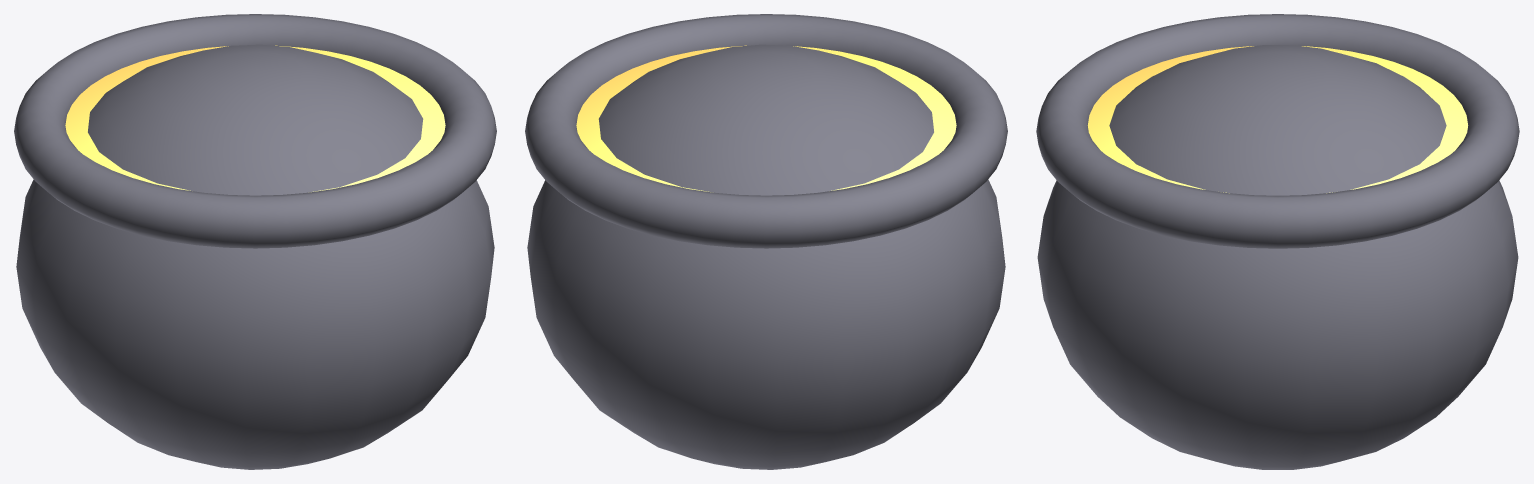
File: prop-soup-pot.glb
3 views of the same model, side by side, from view 1: azimuth 30°, elevation 25°; view 2: azimuth 150°, elevation 25°; view 3: azimuth 270°, elevation 25° (orthographic).
Parts seen in each view (by area): view 1: Sphere, Torus, Cylinder; view 2: Sphere, Torus, Cylinder; view 3: Sphere, Torus, Cylinder.
Part boxes in pixels (bbox=[...]): Sphere: bbox=[16, 44, 494, 469]; Torus: bbox=[14, 14, 496, 248]; Cylinder: bbox=[65, 45, 445, 192]; Sphere: bbox=[527, 44, 1005, 469]; Torus: bbox=[525, 14, 1007, 248]; Cylinder: bbox=[576, 45, 956, 192]; Sphere: bbox=[1037, 45, 1518, 469]; Torus: bbox=[1036, 14, 1519, 248]; Cylinder: bbox=[1087, 46, 1468, 193].
Bounding box in the file's own units: 0.764 × 0.6536 × 0.764.
